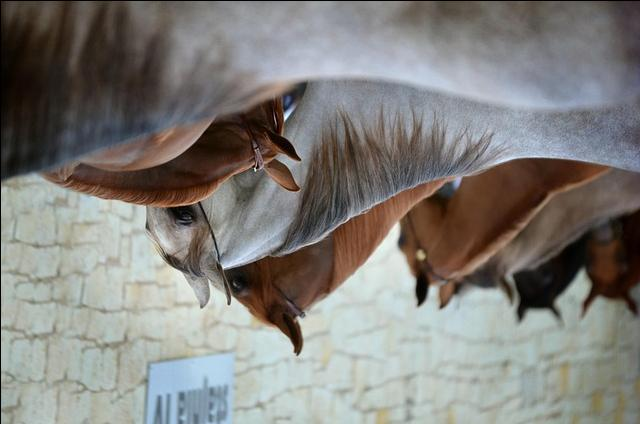Non_Gorille: (0, 3, 640, 424)
